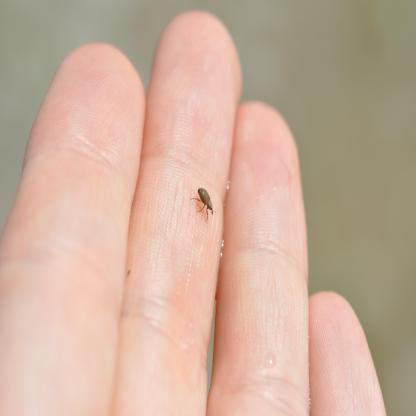rice-bug: (194, 184, 218, 220)
